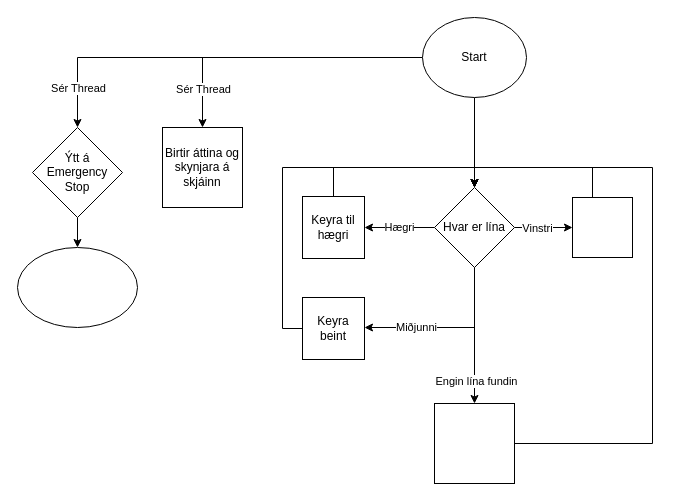
This 678x501 diagram has some shape labels left out. The box of each missing label's shape, as (x1, y1, x2, y2) in pixels:
end: (16, 246, 138, 328)
Keyra til vinstri: (572, 196, 632, 258)
Keyra í síðustu áttina sem var keyrt í: (434, 402, 514, 484)
